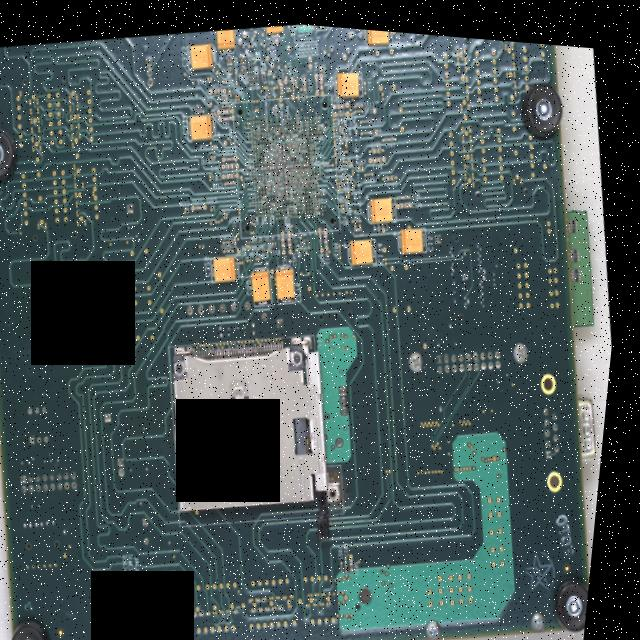-component text- -697 6K 206-: (190, 43, 209, 63), (258, 270, 273, 294), (218, 255, 236, 274), (192, 114, 210, 133), (341, 68, 358, 87), (283, 269, 297, 291), (358, 236, 375, 254), (408, 224, 426, 241), (377, 195, 394, 212), (368, 24, 387, 34)
-component text- -MXU 58810-: (207, 473, 235, 499)
-component text- 472: (576, 241, 580, 248), (578, 261, 581, 267), (574, 212, 577, 218)
-electrolytic capacitor- C157: (397, 218, 433, 250)
-electrolytic capacitor- C163: (360, 23, 393, 41)
-electrolytic capacitor- C164: (367, 187, 402, 220)
-electrolytic capacitor- C174: (347, 229, 382, 261)
-electrolytic capacitor- C176: (331, 62, 365, 94)
-electrolytic capacitor- C276: (276, 258, 303, 300)
-electrolytic capacitor- C307: (251, 259, 280, 303)
-electrolytic capacitor- C326: (212, 248, 246, 280)
-electrolytic capacitor- C333: (184, 37, 218, 69)
-electrolytic capacitor- C334: (185, 107, 219, 139)
-resistor network- unknown: (574, 256, 585, 272), (570, 208, 581, 223), (572, 238, 583, 252)
2000: (263, 68, 267, 74)
2001: (297, 234, 301, 237)
2002: (275, 239, 280, 243)
2004: (269, 233, 275, 238)
2006: (256, 70, 259, 76)
2007: (253, 70, 256, 77)
2008: (250, 58, 253, 64)
2009: (250, 70, 254, 76)
2010: (264, 242, 270, 247)
2011: (248, 65, 253, 69), (247, 58, 250, 64)
2013: (248, 70, 251, 76)
2014: (260, 234, 267, 239)
2015: (255, 236, 260, 239)
2017: (249, 236, 254, 240)
2018: (235, 219, 240, 223)
2234: (309, 232, 313, 240), (274, 65, 278, 73), (306, 232, 310, 239), (278, 66, 282, 72)
2249: (243, 267, 250, 276), (395, 222, 401, 231), (366, 186, 372, 194), (218, 50, 224, 58), (328, 68, 334, 76), (291, 252, 296, 260), (268, 254, 273, 262), (345, 235, 350, 242), (218, 126, 223, 133)
2644: (331, 226, 334, 228)
2655: (299, 228, 305, 233)
2661: (232, 228, 238, 236)
2671: (294, 229, 298, 233)
2682: (288, 229, 292, 234)
2690: (280, 230, 285, 235)
2693: (273, 230, 278, 235)
2701: (216, 109, 220, 113)
2706: (268, 230, 273, 236)
2714: (261, 231, 267, 236)
2718: (257, 232, 261, 236)
2721: (253, 231, 259, 237)
2729: (33, 597, 47, 611)
2756: (317, 226, 321, 230)
2769: (311, 226, 315, 230)
2784: (379, 120, 383, 127), (306, 228, 309, 230)
2791: (361, 202, 365, 205)
2808: (353, 119, 358, 123)
2809: (355, 123, 359, 128)
2810: (354, 115, 359, 119)
2813: (353, 112, 356, 116)
2817: (354, 108, 358, 112)
2818: (352, 104, 356, 108)
2833: (361, 196, 365, 201)
2843: (233, 239, 239, 244), (372, 121, 376, 127), (316, 190, 319, 192), (360, 193, 363, 195)
2908: (428, 220, 439, 244)
2909: (414, 193, 425, 201)
2910: (412, 184, 423, 192)
2913: (385, 134, 397, 141)
2914: (388, 173, 400, 181)
2915: (392, 25, 402, 43)
2916: (375, 214, 393, 226)
2917: (371, 133, 383, 141)
2918: (374, 156, 385, 164)
2919: (366, 70, 373, 85)
2920: (366, 169, 377, 176)
2923: (370, 110, 382, 118)
2924: (364, 100, 376, 108)
2925: (363, 93, 376, 102)
2926: (360, 151, 368, 156)
2927: (378, 234, 389, 257)
2928: (356, 223, 367, 231)
2929: (345, 54, 362, 65)
2930: (356, 208, 364, 214)
2932: (349, 110, 354, 118)
2934: (338, 102, 346, 107)
2940: (336, 235, 343, 250)
2945: (328, 161, 335, 167)
2946: (320, 57, 327, 71)
2947: (362, 553, 370, 568)
2949: (312, 55, 319, 69)
2952: (327, 244, 335, 259)
2953: (321, 117, 326, 126)
2954: (352, 535, 359, 550)
2955: (306, 240, 311, 248)
2960: (322, 182, 330, 188)
2961: (319, 129, 326, 134)
2963: (322, 246, 330, 260)
2964: (346, 538, 354, 553)
2966: (316, 204, 324, 210)
2972: (306, 72, 314, 86)
2975: (325, 154, 332, 160)
2988: (296, 104, 301, 112)
2992: (292, 61, 299, 75)
2996: (319, 155, 326, 160)
3010: (285, 99, 291, 109)
3011: (289, 212, 294, 218)
3012: (311, 155, 319, 161)
3015: (279, 63, 286, 77)
3016: (287, 218, 292, 227)
3017: (286, 210, 291, 218)
3019: (290, 218, 295, 226)
3020: (280, 114, 286, 123)
3021: (279, 97, 284, 104)
3022: (280, 105, 285, 114)
3023: (295, 246, 302, 260)
3024: (267, 33, 277, 56)
3025: (256, 161, 263, 167)
3026: (272, 101, 276, 110)
3027: (285, 248, 292, 260), (277, 186, 282, 193)
3028: (274, 122, 282, 127)
3032: (298, 275, 308, 297)
3036: (267, 166, 274, 172)
3039: (261, 89, 269, 95)
3043: (249, 159, 257, 165)
3044: (268, 74, 275, 79)
3045: (273, 200, 280, 206)
3046: (264, 96, 270, 105)
3047: (269, 174, 274, 179)
3049: (265, 104, 269, 113)
3053: (274, 210, 279, 218)
3055: (242, 162, 249, 168)
3056: (253, 80, 261, 85)
3061: (266, 210, 270, 218)
3062: (229, 124, 234, 133)
3063: (247, 81, 255, 86)
3064: (246, 47, 253, 52)
3066: (248, 268, 259, 291)
3067: (258, 210, 262, 220)
3068: (233, 52, 240, 66)
3070: (232, 83, 243, 90)
3072: (226, 71, 233, 85)
3073: (223, 95, 230, 100)
3074: (212, 159, 224, 168)
3075: (223, 144, 235, 152)
3076: (212, 168, 225, 178)
3077: (223, 116, 231, 121)
3078: (214, 178, 226, 185)
3080: (221, 89, 228, 94)
3081: (224, 239, 235, 247)
3082: (223, 228, 234, 236)
3083: (211, 77, 223, 85)
3084: (222, 202, 233, 211)
3085: (206, 250, 217, 274)
3086: (214, 100, 221, 105)
3087: (196, 73, 208, 81)
3088: (201, 139, 212, 147)
3090: (202, 90, 214, 98)
3091: (202, 153, 213, 161)
3092: (209, 193, 220, 200)
3093: (179, 41, 189, 65)
3094: (180, 110, 191, 132)
3095: (191, 100, 202, 107)
3097: (194, 194, 206, 202)
3098: (181, 196, 193, 204)
3101: (152, 612, 159, 629)
3102: (143, 553, 150, 568)
3103: (147, 613, 154, 628)
3104: (137, 552, 144, 568)
3105: (142, 617, 149, 631)
3106: (131, 552, 139, 566)
3267: (360, 188, 364, 192)
3326: (360, 184, 363, 187)
3338: (560, 498, 588, 549)
3358: (360, 180, 363, 183)
3411: (539, 553, 556, 573)
3438: (359, 177, 362, 180)
3446: (359, 173, 362, 175)
3488: (358, 169, 362, 172)
3493: (320, 326, 329, 343)
3554: (358, 166, 361, 169)
3559: (358, 162, 361, 165)
3586: (358, 158, 361, 161)
3627: (357, 154, 360, 157)
3635: (356, 150, 360, 154)
3765: (356, 147, 360, 150)
3817: (239, 245, 250, 253)
3904: (355, 184, 360, 193)
3905: (349, 120, 353, 129)
3906: (350, 168, 355, 176)
3907: (343, 110, 348, 119)
3908: (345, 127, 350, 135)
3909: (350, 200, 355, 209)
3910: (348, 177, 352, 185)
3912: (348, 152, 353, 160)
3913: (345, 162, 349, 170)
3914: (347, 193, 351, 201)
3915: (341, 188, 345, 196)
3916: (344, 176, 349, 184)
3917: (343, 146, 347, 154)
3918: (341, 119, 345, 127)
3919: (339, 130, 344, 139)
3920: (339, 140, 344, 149)
3922: (341, 157, 345, 165)
3923: (337, 111, 341, 119)
3924: (335, 92, 343, 97)
3925: (341, 169, 346, 177)
3926: (323, 74, 335, 81)
3942: (313, 36, 320, 51)
3945: (309, 37, 316, 51)
3948: (305, 37, 312, 52)
3949: (301, 37, 308, 52)
3952: (297, 38, 305, 53)
3956: (293, 39, 300, 52)
3957: (286, 56, 293, 70)
3958: (271, 83, 276, 91)
3959: (265, 82, 269, 91)
3960: (262, 58, 266, 66)
3961: (299, 237, 306, 253)
3962: (273, 243, 285, 250)
3963: (260, 58, 263, 66)
3964: (264, 237, 276, 245)
3966: (255, 61, 259, 69)
3967: (253, 61, 257, 70)
3968: (257, 46, 261, 54)
3969: (245, 70, 249, 78)
3970: (262, 246, 273, 255)
3971: (347, 211, 352, 219), (238, 68, 243, 76)
3972: (254, 46, 258, 55)
3973: (242, 71, 247, 79)
3974: (255, 238, 266, 246)
3975: (251, 245, 263, 253)
3977: (244, 239, 256, 246)
3978: (231, 212, 242, 220)
4284: (356, 143, 359, 146)
4340: (356, 139, 359, 143)
4384: (355, 136, 359, 139)
4402: (355, 131, 359, 136)
4421: (354, 127, 359, 130)
capacitor: (221, 104, 232, 111), (283, 231, 289, 243), (235, 231, 241, 243), (287, 185, 292, 196), (279, 123, 286, 130), (263, 189, 270, 195), (256, 128, 262, 135), (294, 178, 300, 184), (306, 177, 312, 183), (301, 162, 308, 167), (304, 198, 308, 206), (293, 136, 297, 144), (299, 139, 303, 147), (269, 177, 275, 182), (296, 163, 302, 168), (305, 174, 311, 179), (266, 154, 272, 159), (272, 153, 278, 158), (262, 176, 266, 183), (280, 185, 284, 192), (279, 169, 283, 176), (281, 165, 285, 172), (295, 191, 299, 198), (293, 172, 297, 179), (296, 171, 300, 178), (293, 164, 297, 171), (312, 186, 316, 193), (280, 150, 284, 157), (274, 146, 278, 153), (276, 138, 280, 145), (311, 139, 315, 146), (279, 192, 284, 197), (302, 135, 307, 140), (302, 171, 306, 177), (268, 143, 271, 151), (297, 149, 301, 155), (303, 233, 306, 240), (277, 178, 280, 185), (304, 191, 307, 198), (291, 173, 294, 180), (300, 175, 303, 182), (290, 165, 293, 172), (314, 170, 317, 177), (277, 146, 280, 153), (280, 142, 283, 149), (271, 139, 274, 146), (289, 149, 292, 156), (307, 124, 310, 131), (269, 182, 274, 186), (274, 166, 279, 170), (280, 177, 285, 181), (288, 137, 293, 141), (303, 139, 308, 143), (299, 124, 304, 128), (274, 174, 277, 180), (277, 170, 280, 176), (297, 137, 300, 143), (365, 124, 369, 128), (303, 167, 307, 171), (292, 148, 296, 152), (289, 141, 293, 144)
capacitor C159: (401, 194, 411, 202)
capacitor C16: (400, 187, 410, 193)
capacitor C162: (385, 129, 395, 135)
capacitor C163: (386, 167, 397, 175)
capacitor C166: (373, 139, 383, 147)
capacitor C167: (374, 149, 384, 157)
capacitor C168: (363, 77, 367, 84)
capacitor C169: (367, 165, 373, 170)
capacitor C171: (363, 113, 368, 117)
capacitor C172: (357, 102, 362, 106)
capacitor C173: (357, 97, 362, 102)
capacitor C174: (360, 155, 365, 159)
capacitor C176: (356, 220, 365, 225)
capacitor C178: (357, 212, 362, 216)
capacitor C18: (337, 105, 346, 111)
capacitor C181: (336, 96, 346, 104)
capacitor C187: (341, 240, 345, 248)
capacitor C191: (327, 157, 332, 161)
capacitor C192: (318, 72, 325, 86)
capacitor C193: (358, 552, 365, 565)
capacitor C195: (314, 73, 319, 85)
capacitor C198: (326, 226, 333, 238)
capacitor C199: (318, 118, 322, 126)
capacitor C2: (354, 554, 358, 565)
capacitor C204: (318, 185, 323, 189)
capacitor C205: (314, 130, 318, 134)
capacitor C207: (321, 227, 326, 238)
capacitor C208: (350, 559, 354, 565)
capacitor C21: (317, 201, 322, 205)
capacitor C215: (301, 75, 308, 87)
capacitor C218: (303, 156, 313, 161)
capacitor C23: (297, 113, 301, 120)
capacitor C233: (291, 77, 296, 88)
capacitor C237: (295, 157, 304, 163)
capacitor C25: (287, 108, 290, 115)
capacitor C251: (287, 158, 297, 163)
capacitor C255: (278, 78, 285, 92)
capacitor C256: (286, 174, 291, 184)
capacitor C257: (285, 163, 290, 174)
capacitor C259: (288, 199, 293, 210)
capacitor C26: (284, 148, 289, 159)
capacitor C262: (283, 136, 289, 148)
capacitor C267: (289, 230, 296, 242)
capacitor C268: (278, 158, 287, 164)
capacitor C27: (274, 102, 280, 113)
capacitor C276: (276, 126, 280, 129)
capacitor C283: (267, 89, 273, 94)
capacitor C287: (269, 159, 279, 165)
capacitor C288: (263, 75, 268, 79)
capacitor C289: (274, 197, 278, 201)
capacitor C29: (266, 113, 269, 119)
capacitor C292: (266, 120, 270, 127)
capacitor C296: (271, 210, 275, 218)
capacitor C298: (261, 160, 270, 166)
capacitor C3: (255, 77, 259, 81)
capacitor C303: (264, 212, 268, 219)
capacitor C304: (230, 133, 234, 141)
capacitor C305: (250, 77, 254, 82)
capacitor C306: (247, 53, 252, 57)
capacitor C309: (253, 214, 256, 220)
capacitor C31: (234, 70, 238, 76)
capacitor C313: (236, 89, 240, 94)
capacitor C314: (227, 85, 231, 92)
capacitor C315: (225, 100, 230, 103)
capacitor C316: (227, 158, 237, 165)
capacitor C317: (227, 152, 236, 157)
capacitor C318: (227, 168, 237, 175)
capacitor C319: (223, 111, 232, 117)
capacitor C32: (228, 176, 237, 181)
capacitor C322: (221, 92, 226, 96)
capacitor C323: (229, 244, 235, 249)
capacitor C324: (229, 235, 234, 240)
capacitor C325: (213, 83, 223, 91)
capacitor C327: (226, 211, 231, 215)
capacitor C328: (211, 104, 216, 108)
capacitor C329: (208, 75, 213, 79)
capacitor C331: (208, 101, 213, 104)
capacitor C332: (213, 153, 218, 157)
capacitor C333: (213, 200, 218, 204)
capacitor C336: (199, 106, 203, 110)
capacitor C338: (197, 201, 207, 206)
capacitor C339: (186, 203, 192, 207)
capacitor C341: (154, 634, 158, 640)
capacitor C342: (146, 575, 149, 582)
capacitor C343: (150, 635, 155, 640)
capacitor C344: (139, 574, 145, 584)
capacitor C345: (143, 633, 149, 640)
capacitor C348: (133, 573, 140, 585)
connector: (576, 379, 609, 451)
connector J14: (161, 318, 349, 535)
pads R223: (352, 181, 356, 188)
pads R224: (346, 119, 349, 126)
pads R225: (346, 169, 349, 178)
pads R226: (341, 110, 344, 118)
pads R227: (342, 130, 346, 139)
pads R228: (348, 201, 352, 208)
pads R229: (346, 183, 350, 190)
pads R230: (344, 153, 347, 161)
pads R231: (343, 165, 347, 173)
pads R232: (344, 196, 348, 204)
pads R233: (343, 189, 347, 197)
pads R234: (342, 177, 346, 185)
pads R236: (339, 149, 343, 156)
pads R237: (336, 120, 340, 128)
pads R238: (337, 131, 340, 139)
pads R239: (337, 141, 341, 149)
pads R240: (339, 158, 342, 167)
pads R241: (335, 111, 338, 118)
pads R242: (333, 89, 336, 97)
pads R243: (339, 170, 343, 179)
pads R244: (327, 79, 333, 84)
pads R285: (345, 212, 349, 220)
pins unknown: (439, 335, 509, 370), (26, 464, 89, 496), (543, 392, 573, 452), (189, 290, 257, 316), (30, 402, 60, 445), (342, 377, 358, 411), (141, 53, 157, 85), (148, 512, 162, 542), (123, 453, 135, 476), (223, 51, 235, 72), (237, 49, 248, 70), (341, 428, 352, 442), (435, 224, 446, 237), (280, 311, 290, 324), (128, 199, 138, 212), (110, 409, 120, 421), (264, 306, 274, 317)
resistor R146 339: (242, 251, 247, 255)
resistor R273: (284, 63, 287, 70)
resistor R274: (270, 81, 273, 88)
resistor R275: (267, 81, 271, 89)
